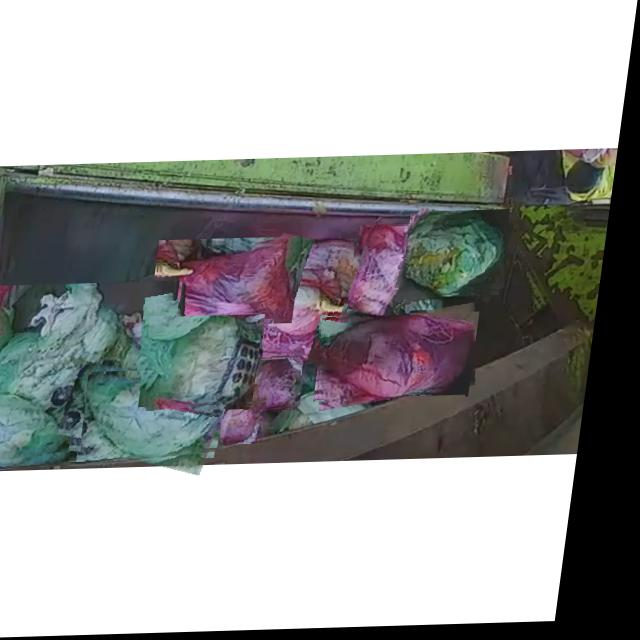general_trashbag: (0, 285, 178, 455), (98, 374, 235, 460), (156, 317, 271, 408), (413, 215, 510, 296), (413, 218, 511, 298)
other_trashbag: (255, 244, 371, 359), (332, 319, 484, 402), (164, 245, 304, 328), (359, 228, 425, 329), (266, 363, 311, 414), (222, 403, 271, 446)
